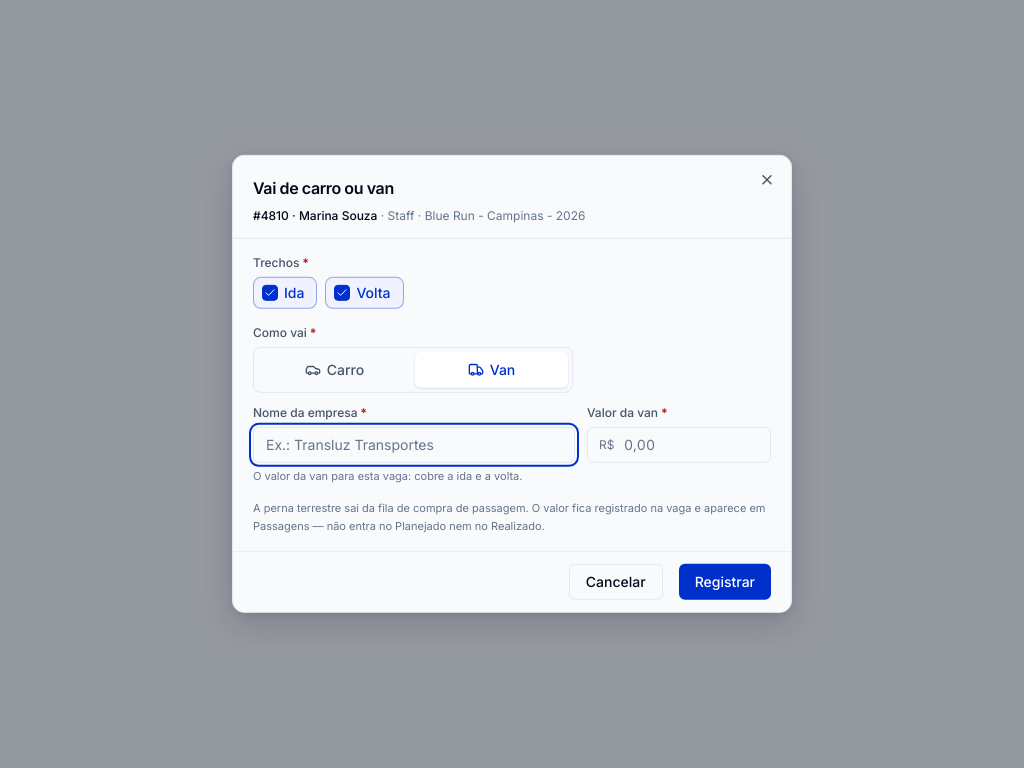
Diálogo 'Vai de carro ou van' › van sem empresa e sem valor: os dois campos obrigatórios em vermelho, nada vai ao servidor
The image size is (1024, 768).
Click the button with test id "terrestre-salvar": (725, 582) x1=679 y1=564 x2=771 y2=600
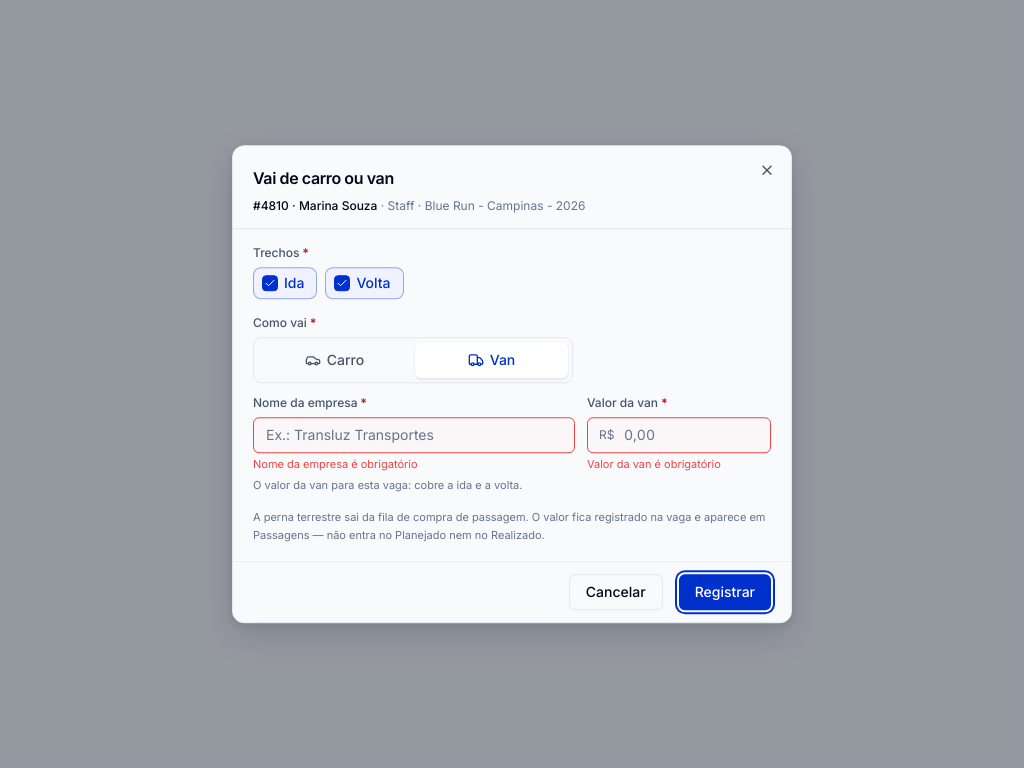
Check: the text "Nome da empresa é obrigatório" is shown, box x1=253 y1=457 x2=418 y2=471
Check: the text "Valor da van é obrigatório" is shown, box x1=587 y1=457 x2=721 y2=471
